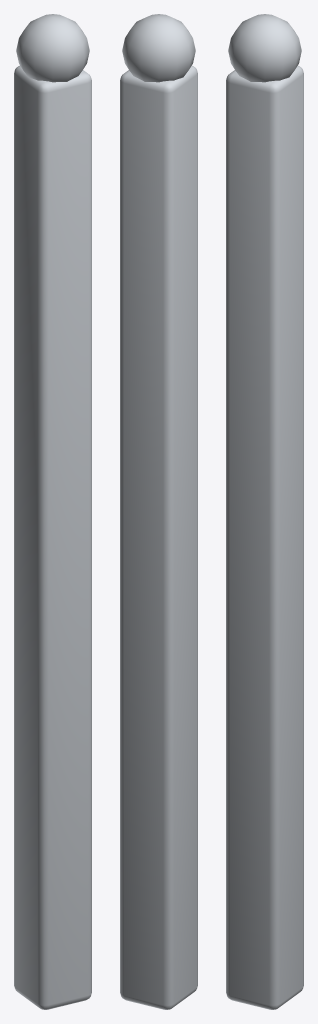
The model's file is guarda_corpo_vidro_fim.glb.
3 views of the same model, side by side, from view 1: azimuth 30°, elevation 25°; view 2: azimuth 150°, elevation 25°; view 3: azimuth 330°, elevation 25° (orthographic).
Visible parts, largest first — view 1: guarda_corpo_vidro_fim; view 2: guarda_corpo_vidro_fim; view 3: guarda_corpo_vidro_fim.
Boxes of the visible parts, bbox=[...] form: guarda_corpo_vidro_fim: bbox=[14, 14, 91, 1009]; guarda_corpo_vidro_fim: bbox=[120, 14, 197, 1009]; guarda_corpo_vidro_fim: bbox=[226, 14, 303, 1009].
Bounding box in the file's own units: 0.072 × 1.06 × 0.072.
1 material, 1 textured.
